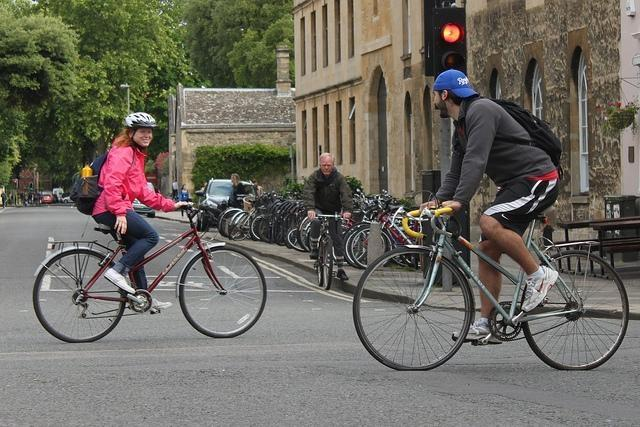bicycle: (352, 204, 633, 374), (32, 207, 270, 343), (342, 204, 401, 269), (315, 213, 343, 288), (228, 198, 269, 239), (270, 203, 300, 246), (280, 208, 308, 249), (220, 208, 243, 239), (286, 225, 305, 251), (256, 214, 272, 244), (298, 214, 310, 251), (250, 213, 264, 240)
car: (196, 176, 260, 233), (62, 195, 75, 203), (42, 194, 52, 204)
